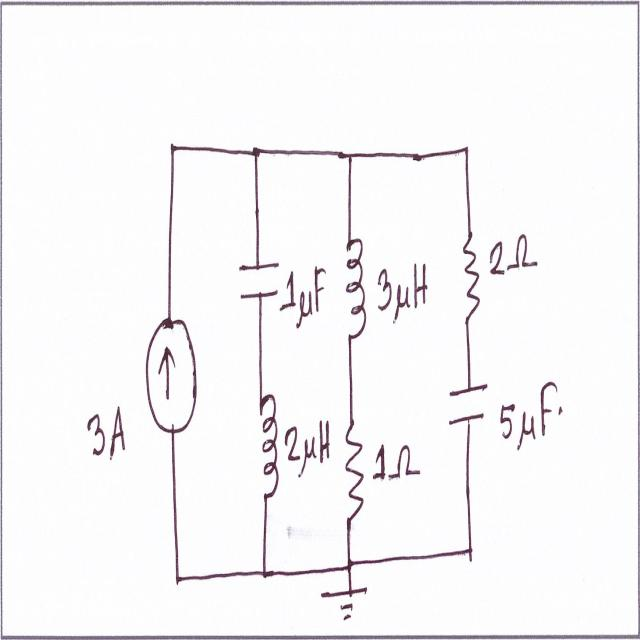capacitor: (442, 376, 490, 434), (236, 247, 281, 306)
current_source: (142, 305, 200, 442)
ground: (318, 580, 372, 628)
inductor: (340, 222, 369, 350), (257, 384, 284, 513)
resistor: (342, 406, 368, 538), (462, 220, 483, 330)
